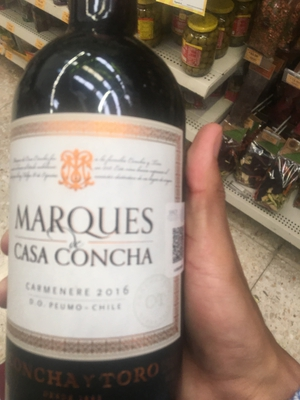marques de casa concha carmenere: (9, 13, 190, 400)
